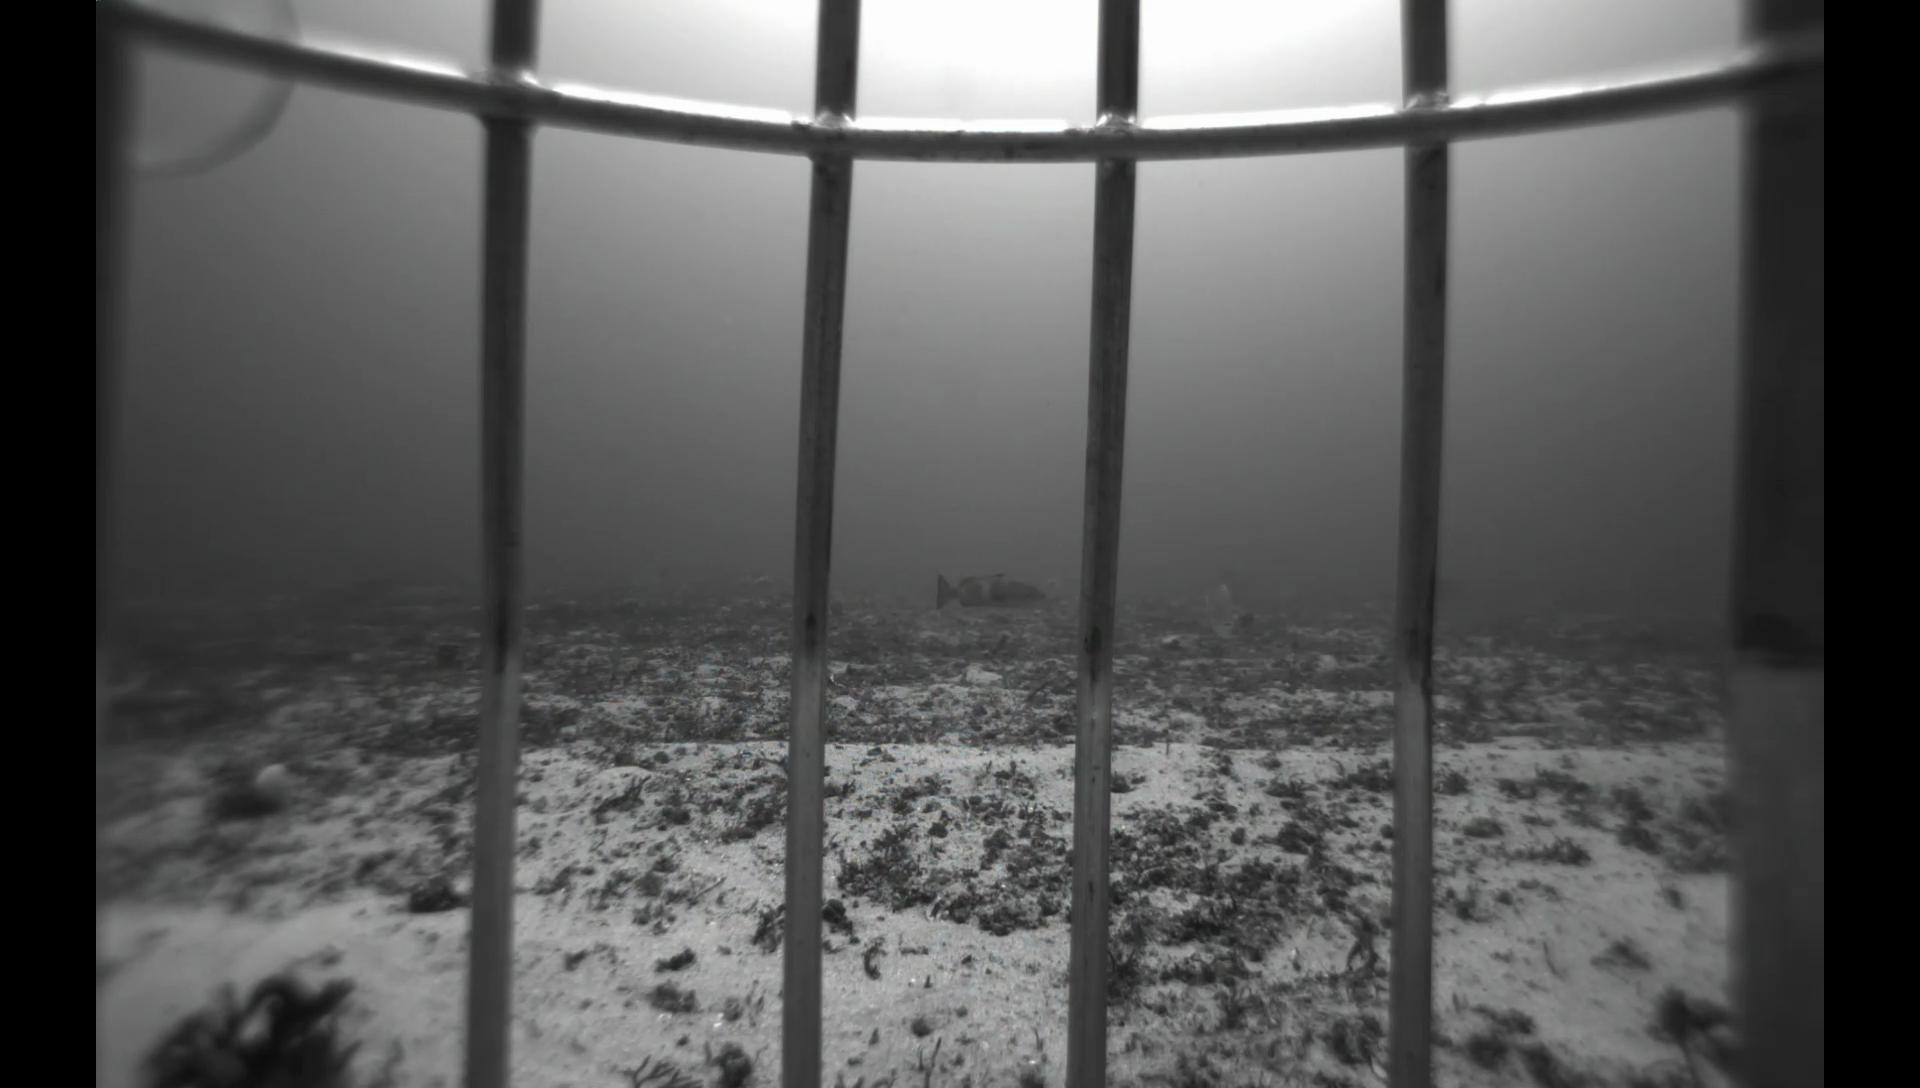CALAMUSPRORIDENS-170210605: (1185, 578, 1242, 645)
EPINEPHELUSMORIO-170021211: (928, 564, 1051, 617)
PRISTIGENYSALTA-170050401: (605, 597, 662, 630), (828, 599, 849, 619)
